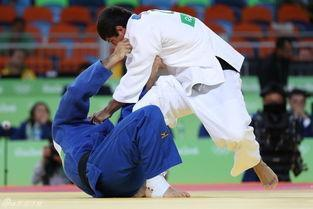Fall-Detected: (37, 39, 206, 193)
